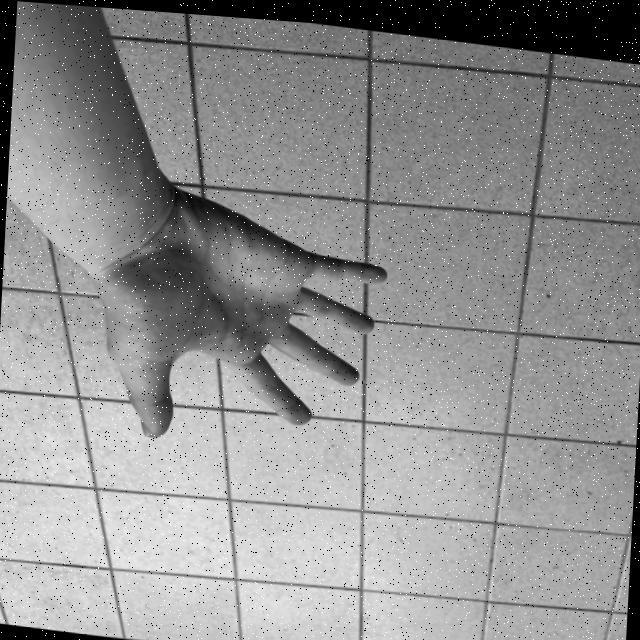no-gloves: (74, 174, 406, 476)
